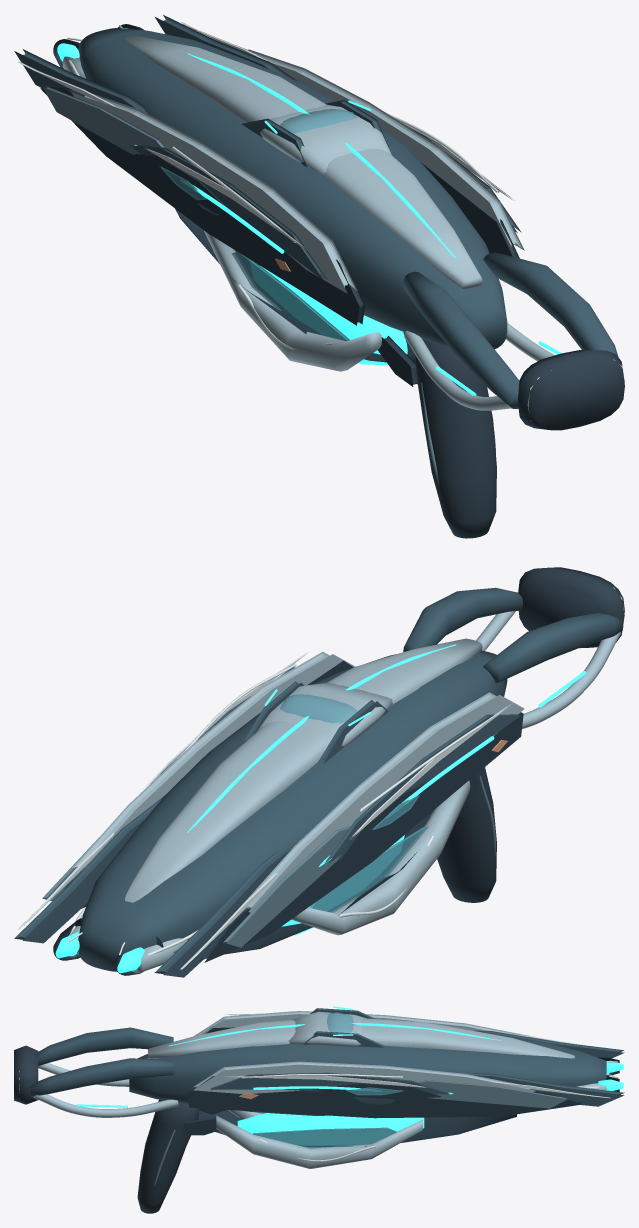
File: aether-w12-rampart-sculpt.glb
3 views of the same model, one above another, from view 1: azimuth 30°, elevation 25°; view 2: azimuth 150°, elevation 25°; view 3: azimuth 270°, elevation 25° (orthographic). The views are drawn at different scales.
Parts seen in each view (by area): view 1: 01 / RAMPART sweeping cathedral monocoque, 02 / satin titanium flying spine, 07 / sculpted polymer grip, 04 / soft sculpted rear end cap, L / concave architectural undercut, L / broad forward swept titanium cheek, L / winged cradle arc, R / broad forward swept titanium cheek, L / monocoque rear sweep, 08 / low wide curved optical crown, R / monocoque rear sweep, L / deep recessed sweep channel (+14 smaller); view 2: 01 / RAMPART sweeping cathedral monocoque, 02 / satin titanium flying spine, L / concave architectural undercut, L / broad forward swept titanium cheek, L / winged cradle arc, R / broad forward swept titanium cheek, 07 / sculpted polymer grip, 04 / soft sculpted rear end cap, L / monocoque rear sweep, 08 / low wide curved optical crown, R / monocoque rear sweep, R / pointed floating nose wing (+15 smaller); view 3: 01 / RAMPART sweeping cathedral monocoque, 02 / satin titanium flying spine, R / concave architectural undercut, R / broad forward swept titanium cheek, 07 / sculpted polymer grip, R / winged cradle arc, R / monocoque rear sweep, 06 / long faceted floating cyan heart, L / monocoque rear sweep, R / deep recessed sweep channel, R / captive core lens, 08 / low wide curved optical crown (+18 smaller).
Part boxes in pixels (x1,y1,x2,y2): 01 / RAMPART sweeping cathedral monocoque: (78,28,507,349); 02 / satin titanium flying spine: (125,36,482,289); 07 / sculpted polymer grip: (415,339,496,538); 04 / soft sculpted rear end cap: (518,350,624,430); L / concave architectural undercut: (40,86,364,325); L / broad forward swept titanium cheek: (71,92,357,293); L / winged cradle arc: (204,230,381,371); R / broad forward swept titanium cheek: (248,49,524,252); L / monocoque rear sweep: (403,271,519,408); 08 / low wide curved optical crown: (260,104,391,174); R / monocoque rear sweep: (483,252,618,356); L / deep recessed sweep channel: (42,86,166,154); 01 / RAMPART sweeping cathedral monocoque: (78,650,507,971); 02 / satin titanium flying spine: (125,638,482,902); L / concave architectural undercut: (199,712,523,962); L / broad forward swept titanium cheek: (242,692,524,912); L / winged cradle arc: (291,780,470,935); R / broad forward swept titanium cheek: (71,651,355,870); 07 / sculpted polymer grip: (437,767,496,902); 04 / soft sculpted rear end cap: (518,567,624,648); L / monocoque rear sweep: (483,613,623,683); 08 / low wide curved optical crown: (256,682,392,750); R / monocoque rear sweep: (403,587,522,651); R / pointed floating nose wing: (14,795,164,943); 01 / RAMPART sweeping cathedral monocoque: (129,1031,606,1115); 02 / satin titanium flying spine: (148,1018,574,1058); R / concave architectural undercut: (186,1076,582,1118); R / broad forward swept titanium cheek: (193,1061,535,1094); 07 / sculpted polymer grip: (137,1099,199,1213); R / winged cradle arc: (216,1115,422,1168); R / monocoque rear sweep: (31,1058,173,1096); 06 / long faceted floating cyan heart: (237,1113,424,1133); L / monocoque rear sweep: (38,1027,173,1066); R / deep recessed sweep channel: (417,1080,567,1108); R / captive core lens: (252,1127,396,1148); 08 / low wide curved optical crown: (288,1011,369,1046).
Size of the model in its own units: 1.1 by 1.46 by 4.29.
